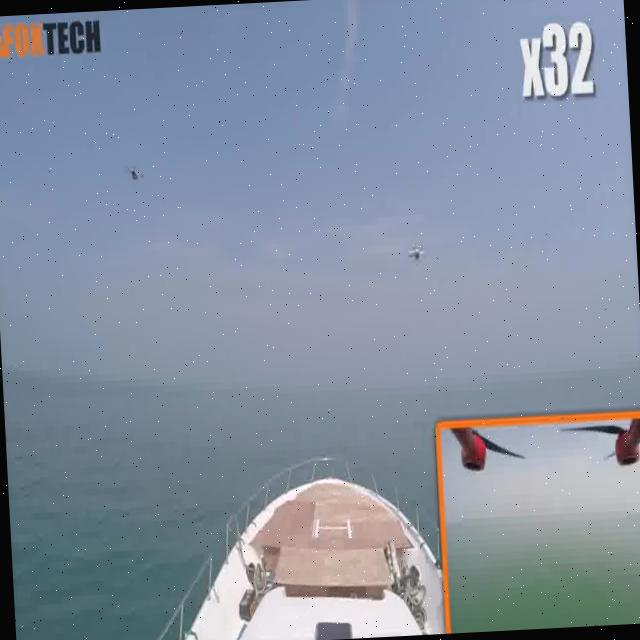drone: (119, 153, 147, 190), (403, 235, 428, 268)
